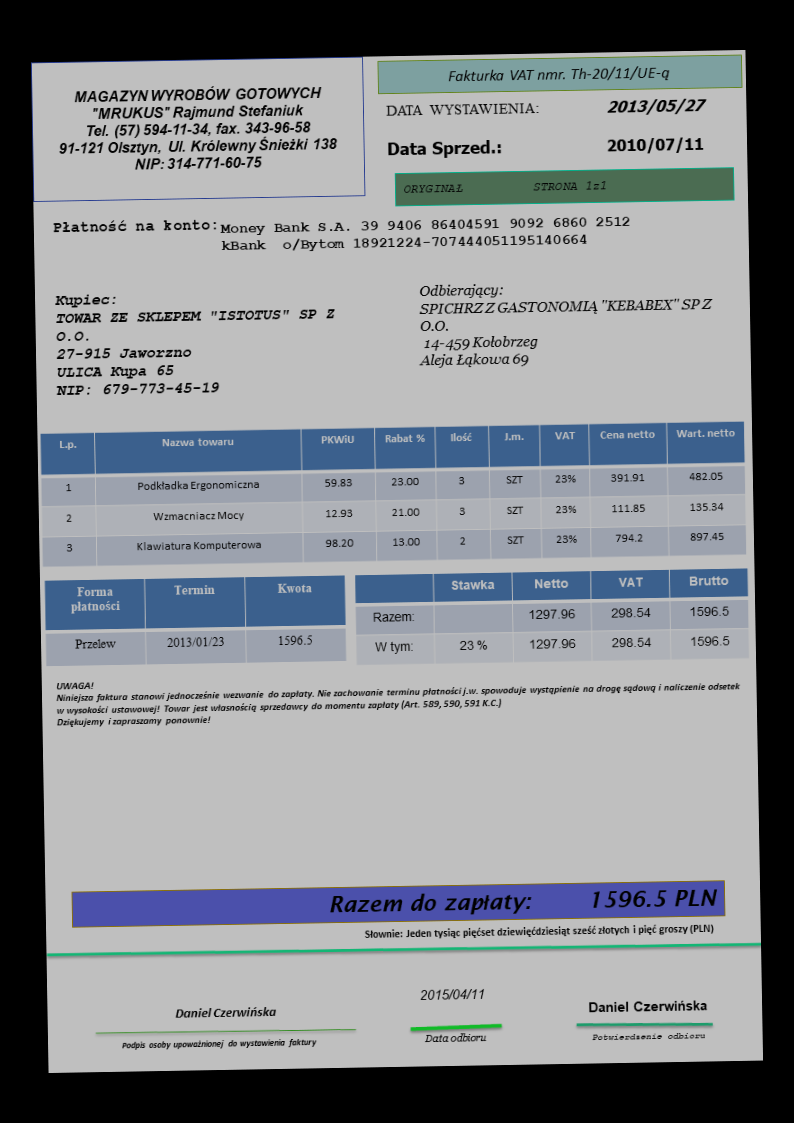Table: (38, 419, 752, 572), (354, 565, 751, 670), (44, 573, 348, 668)
TextBox: (51, 667, 743, 733), (51, 288, 340, 399), (416, 276, 716, 371), (53, 83, 344, 177), (219, 213, 633, 253), (324, 883, 721, 919), (360, 919, 717, 942), (443, 63, 673, 88), (402, 175, 610, 197), (383, 97, 541, 122), (118, 1035, 319, 1054), (48, 215, 221, 236), (384, 136, 504, 160), (585, 997, 709, 1018), (603, 133, 707, 157), (600, 95, 709, 117), (587, 1028, 709, 1043), (172, 1003, 278, 1020), (416, 985, 486, 1002), (422, 1031, 489, 1044)
